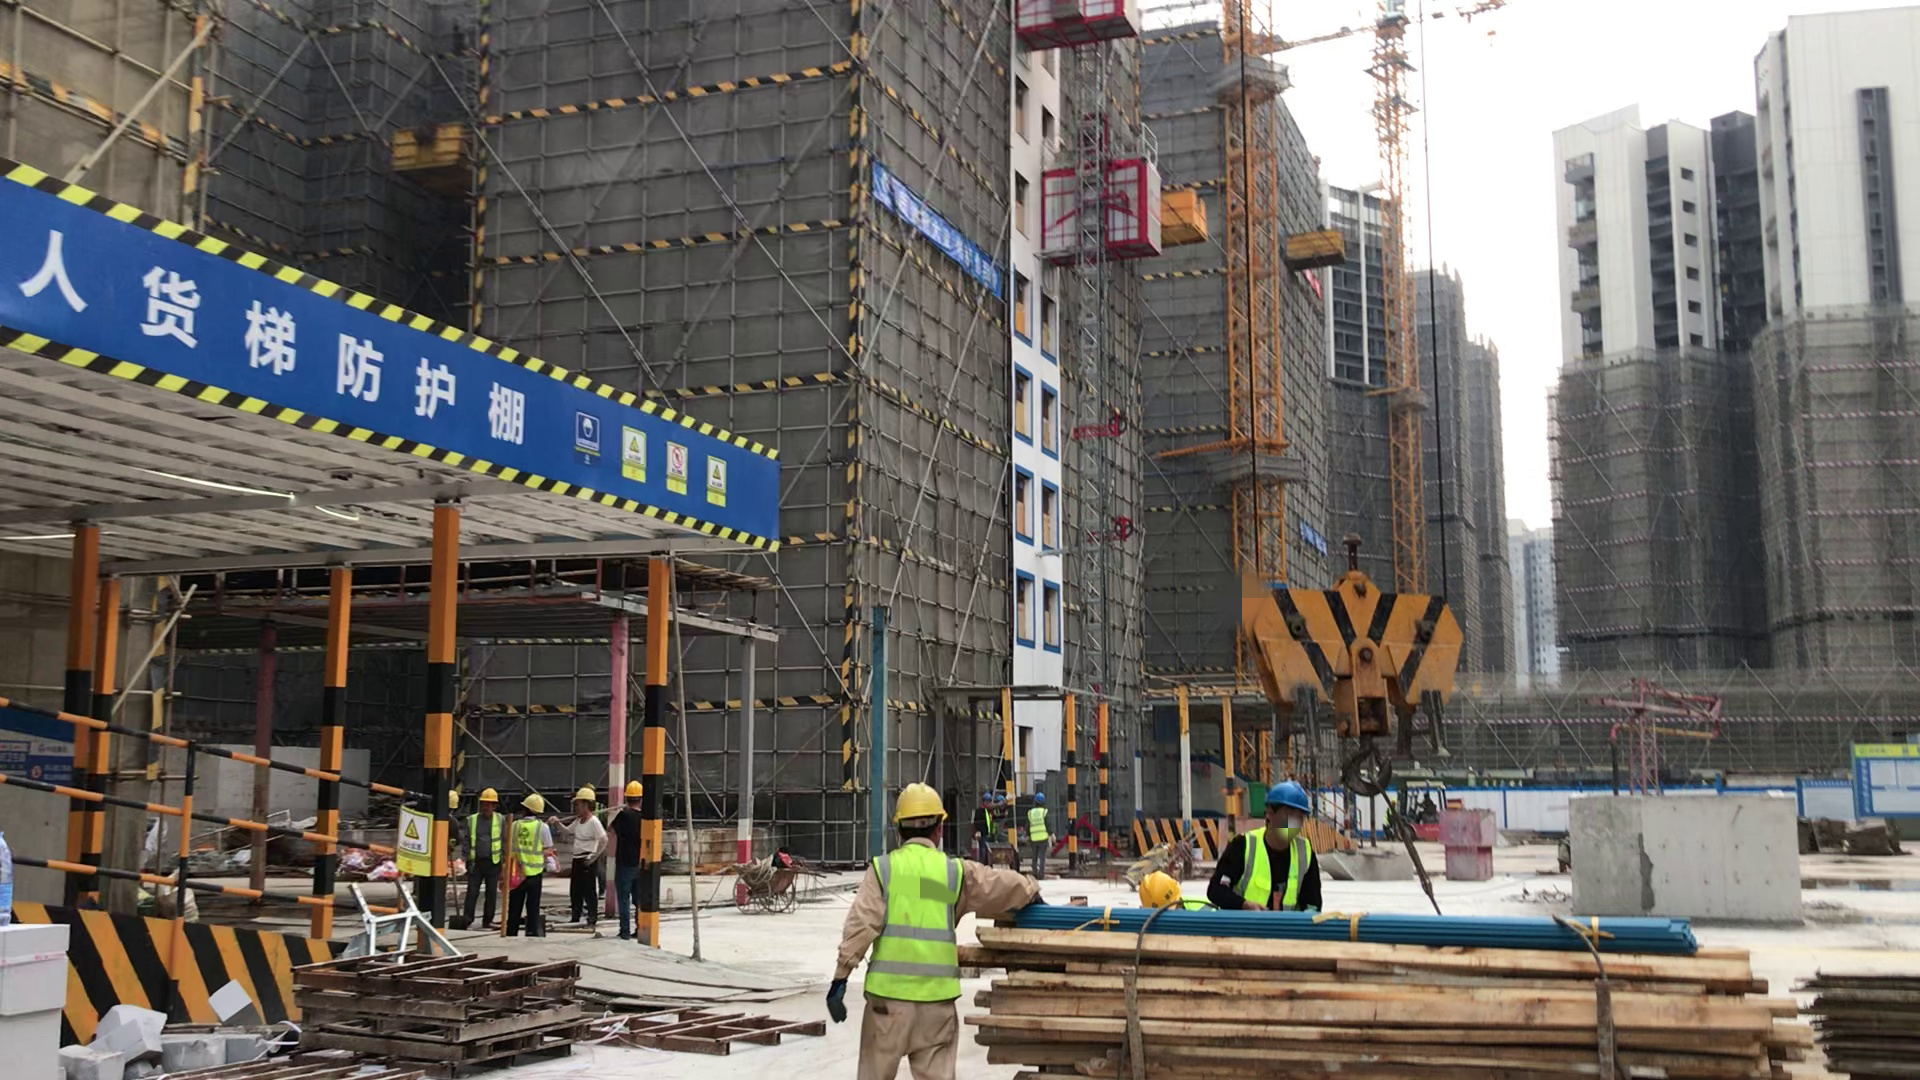board: (1794, 955, 1916, 1080)
handcart: (717, 855, 832, 922), (1129, 823, 1213, 878), (983, 836, 1019, 871)
helmet: (889, 782, 951, 827), (1131, 873, 1192, 911), (1267, 780, 1318, 816), (570, 787, 598, 807), (523, 792, 548, 814), (623, 781, 645, 798), (478, 787, 500, 802), (1034, 794, 1049, 806)
hook: (1249, 573, 1467, 797)
hopper: (1319, 844, 1418, 892)
person: (847, 780, 993, 1080), (1213, 780, 1334, 918), (555, 785, 606, 929), (513, 790, 553, 943), (612, 778, 648, 947), (470, 785, 505, 930), (1024, 791, 1061, 883), (974, 792, 1008, 833)
slogan: (560, 391, 733, 514), (871, 165, 1001, 299), (392, 802, 435, 882)
vest: (866, 850, 966, 1003), (1238, 829, 1310, 907), (467, 815, 507, 867), (514, 820, 547, 875), (1027, 809, 1051, 844)
wood: (976, 913, 1806, 1080)
